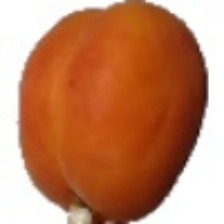apricot: (25, 57, 224, 203)
